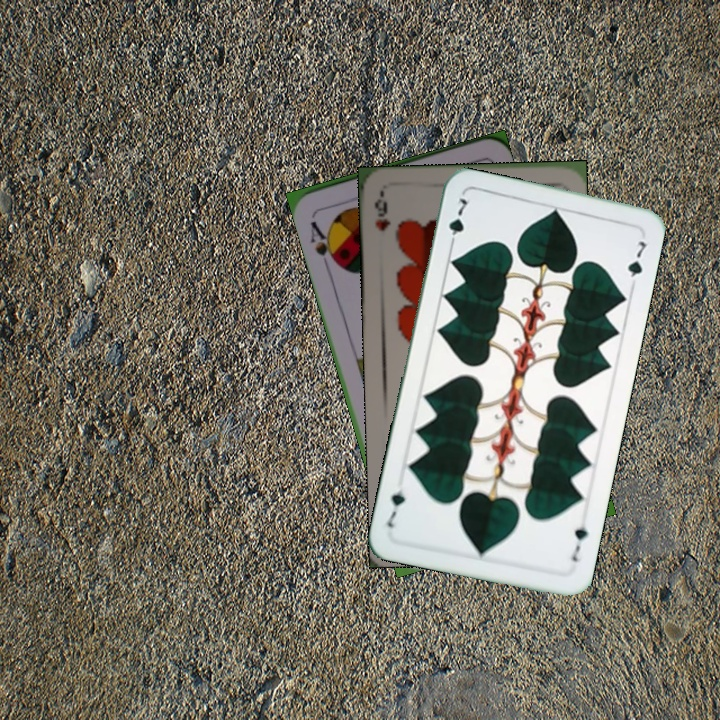G7: (444, 194, 470, 251), (568, 522, 591, 565)
H9: (370, 191, 394, 234)
SA: (306, 217, 340, 269)
